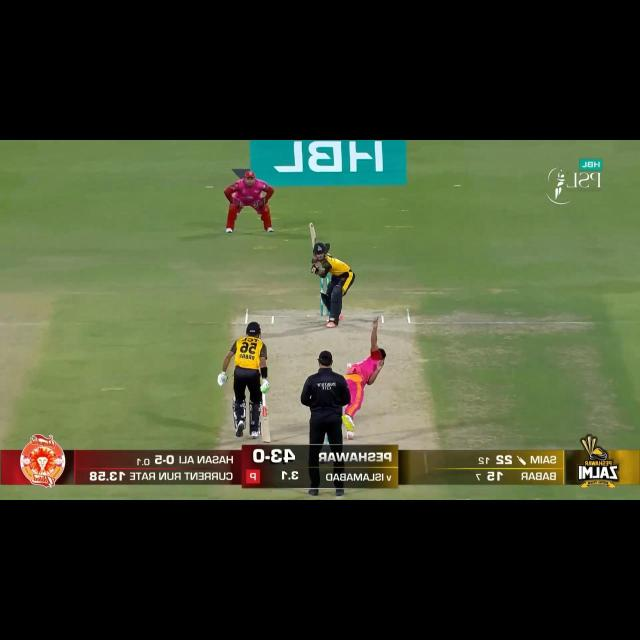bat: (258, 406, 272, 444), (304, 219, 321, 247)
toe: (261, 432, 271, 443), (304, 221, 316, 230)
